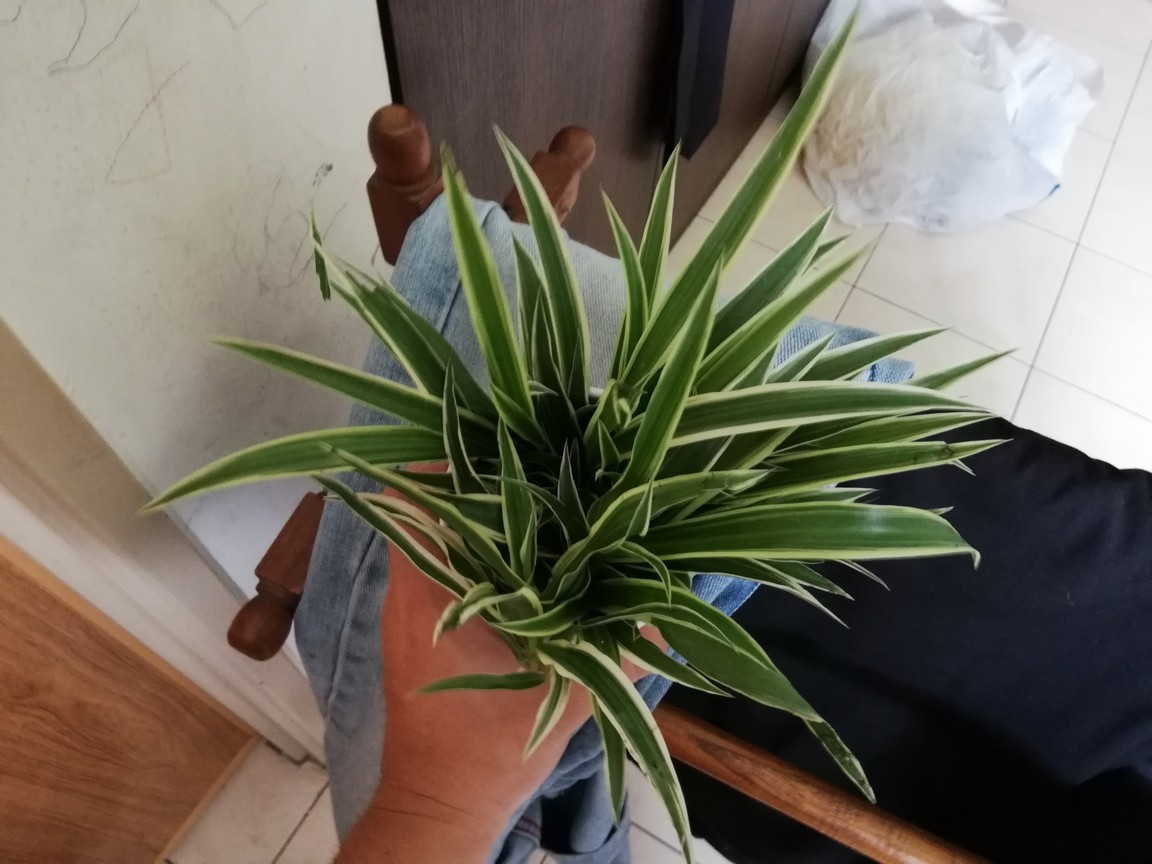daun: (727, 1, 882, 195), (644, 243, 727, 456), (133, 429, 305, 520), (194, 328, 375, 412), (626, 743, 710, 864), (803, 717, 883, 812), (436, 124, 483, 272), (488, 118, 554, 223), (645, 634, 735, 709), (636, 135, 683, 270), (917, 343, 1029, 390), (835, 319, 963, 359), (441, 351, 478, 488), (518, 680, 575, 764), (396, 672, 529, 708), (598, 178, 637, 285), (890, 410, 1012, 444), (596, 726, 631, 839), (804, 588, 859, 647), (839, 552, 907, 599), (556, 433, 588, 531), (777, 326, 835, 378), (508, 223, 554, 282), (529, 278, 558, 370), (916, 436, 1024, 457), (804, 566, 855, 605), (646, 547, 677, 608), (594, 406, 623, 471), (798, 229, 852, 260), (797, 199, 836, 234), (820, 484, 875, 504), (949, 455, 981, 479), (926, 503, 956, 517)
